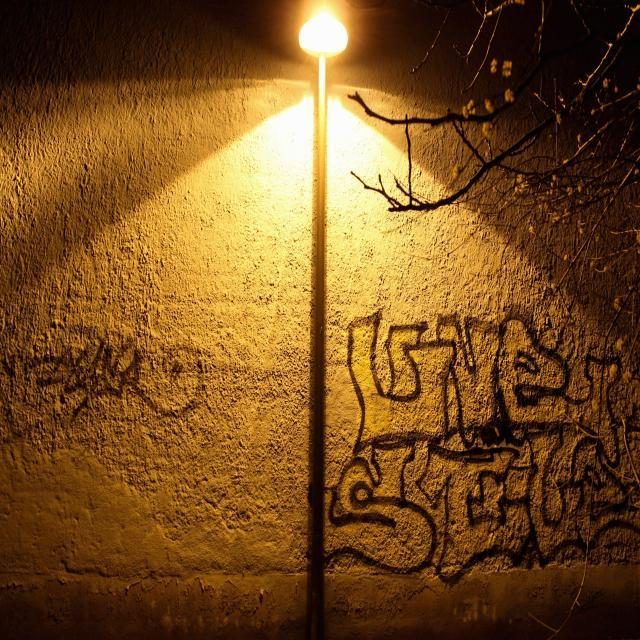-: (326, 308, 638, 586), (0, 347, 203, 447)
